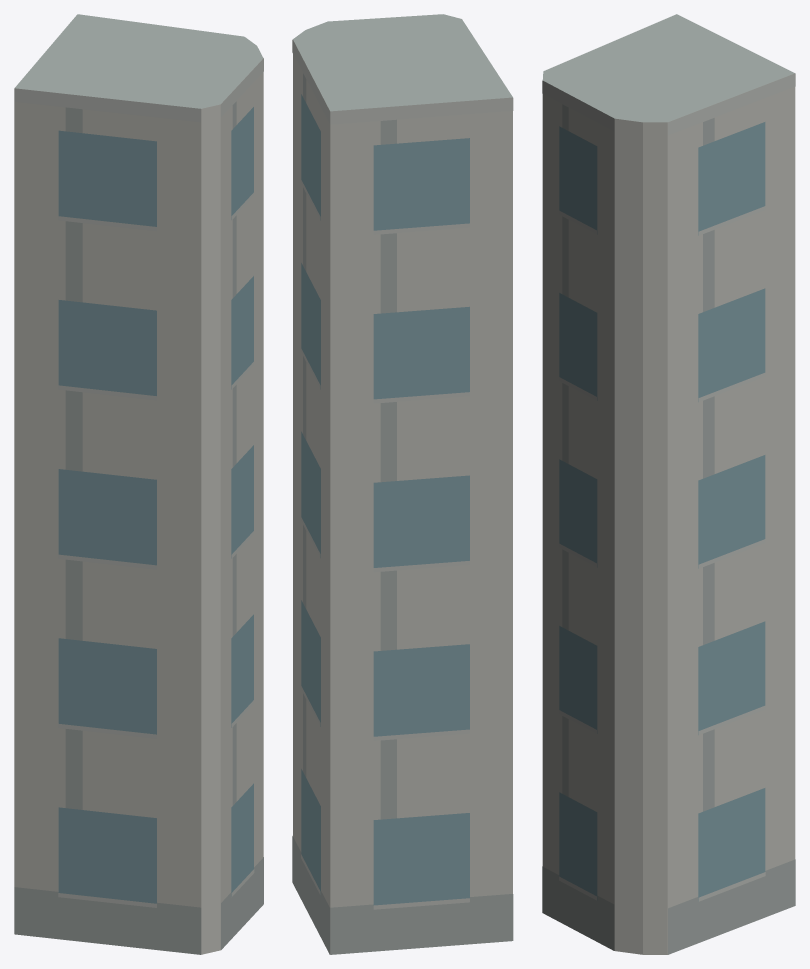
Rendered from survey-upis-32783507.glb.
The picture shows the model from 3 angles, left to right: view 1: azimuth 30°, elevation 25°; view 2: azimuth 150°, elevation 25°; view 3: azimuth 270°, elevation 25°; orthographic projection.
Parts seen in each view (by area): view 1: survey-upis-32783507.tmp; view 2: survey-upis-32783507.tmp; view 3: survey-upis-32783507.tmp.
Boxes of the visible parts, <box> form: survey-upis-32783507.tmp: <box>14,14,263,954</box>; survey-upis-32783507.tmp: <box>292,14,513,954</box>; survey-upis-32783507.tmp: <box>542,14,795,954</box>.
Size of the model in its own units: 4.26 by 15.25 by 4.2.
